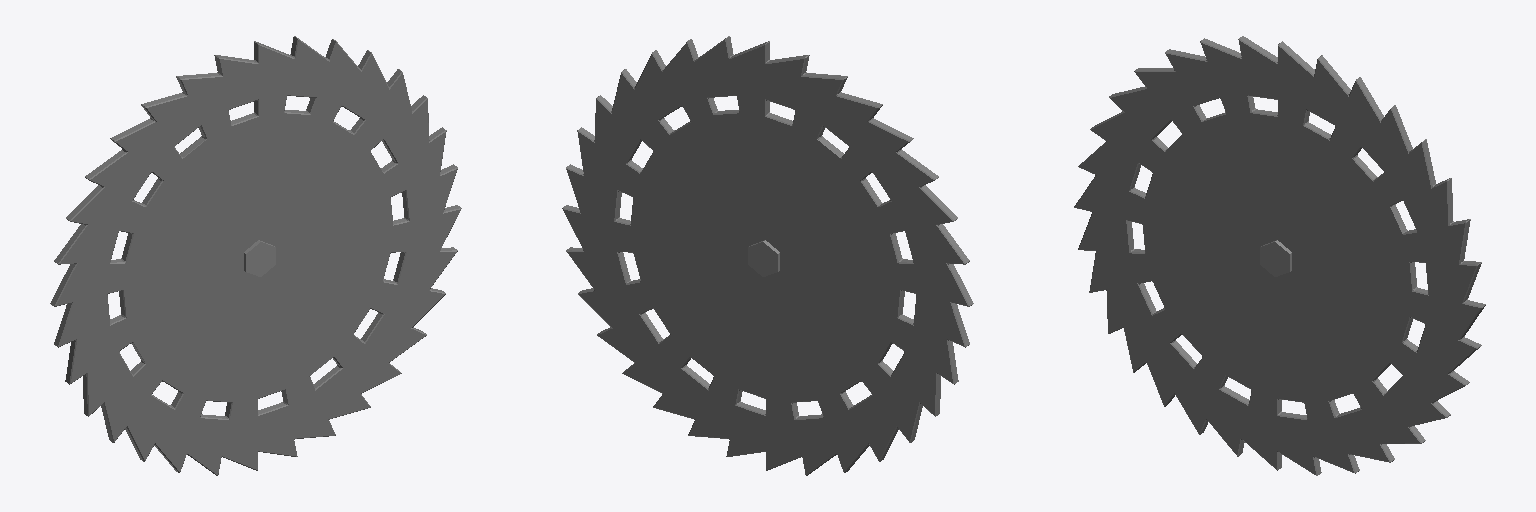
The model's file is circularSaw.obj.
3 renders of one model, left to right at view 1: azimuth 30°, elevation 25°; view 2: azimuth 150°, elevation 25°; view 3: azimuth 330°, elevation 25°, orthographic.
Visible parts, largest first — view 1: circleSaw_geo_Circle, bolt_Cylinder; view 2: circleSaw_geo_Circle, bolt_Cylinder; view 3: circleSaw_geo_Circle, bolt_Cylinder.
Boxes of the visible parts, <box> form: circleSaw_geo_Circle: <box>50,36,461,475</box>; bolt_Cylinder: <box>244,240,275,276</box>; circleSaw_geo_Circle: <box>562,36,973,475</box>; bolt_Cylinder: <box>748,240,779,276</box>; circleSaw_geo_Circle: <box>1074,36,1485,475</box>; bolt_Cylinder: <box>1260,240,1291,276</box>.
Bounding box in the file's own units: 2.39 × 2.39 × 0.1.